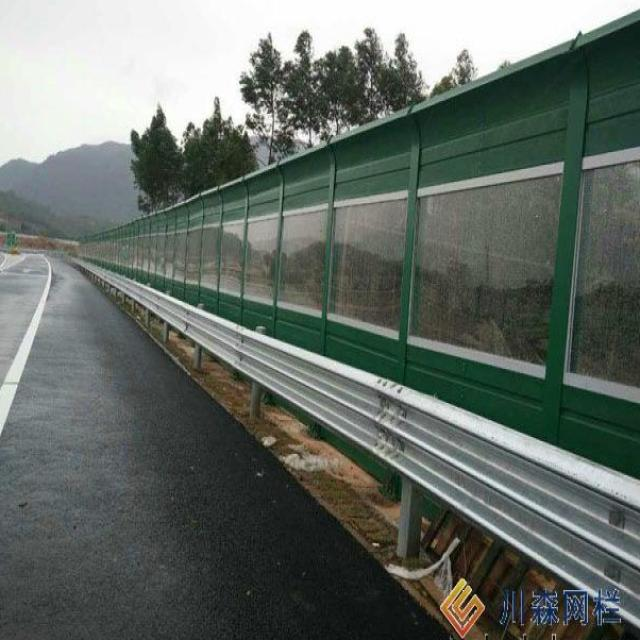Guard rail: (75, 261, 640, 630)
